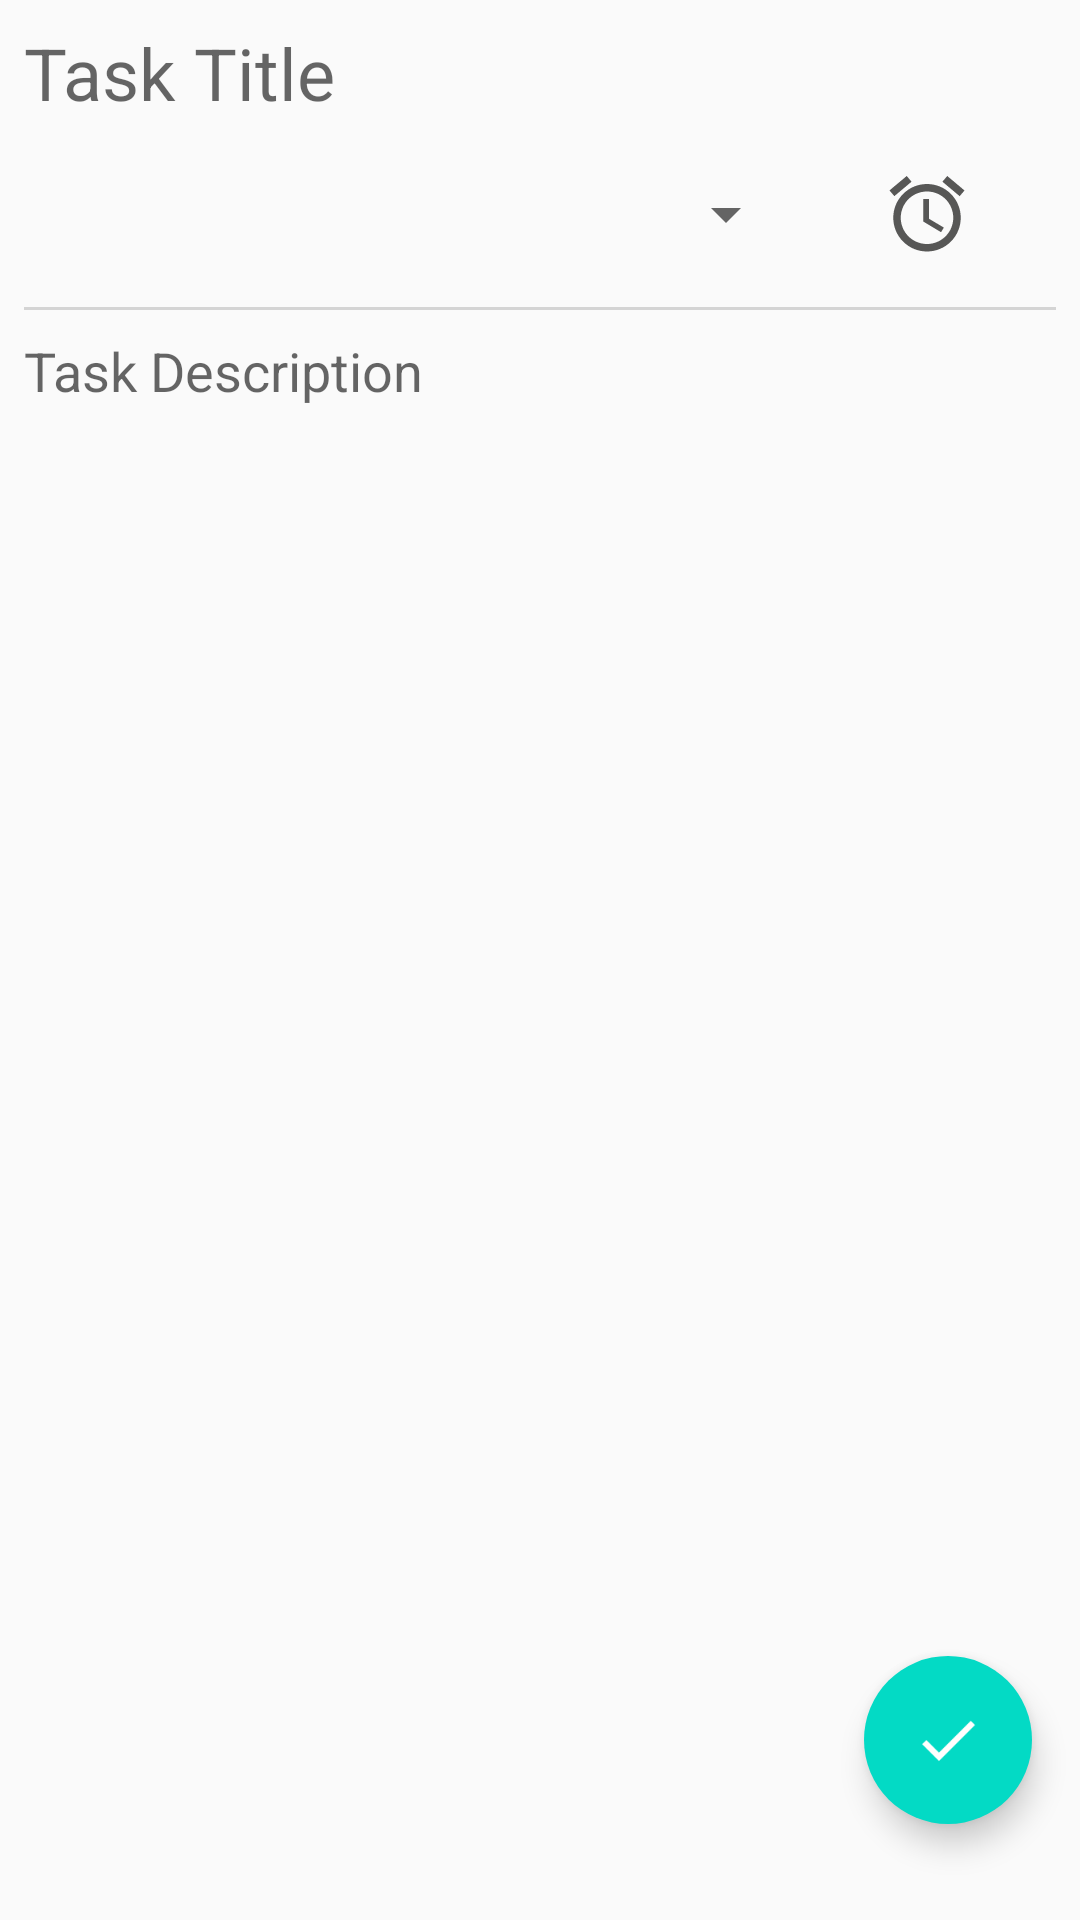

Icons on this 1080w x 1920h Android screen, each with the point to tap as (x=x, y=y):
done: (x=948, y=1740)
reminder: (x=927, y=214)
